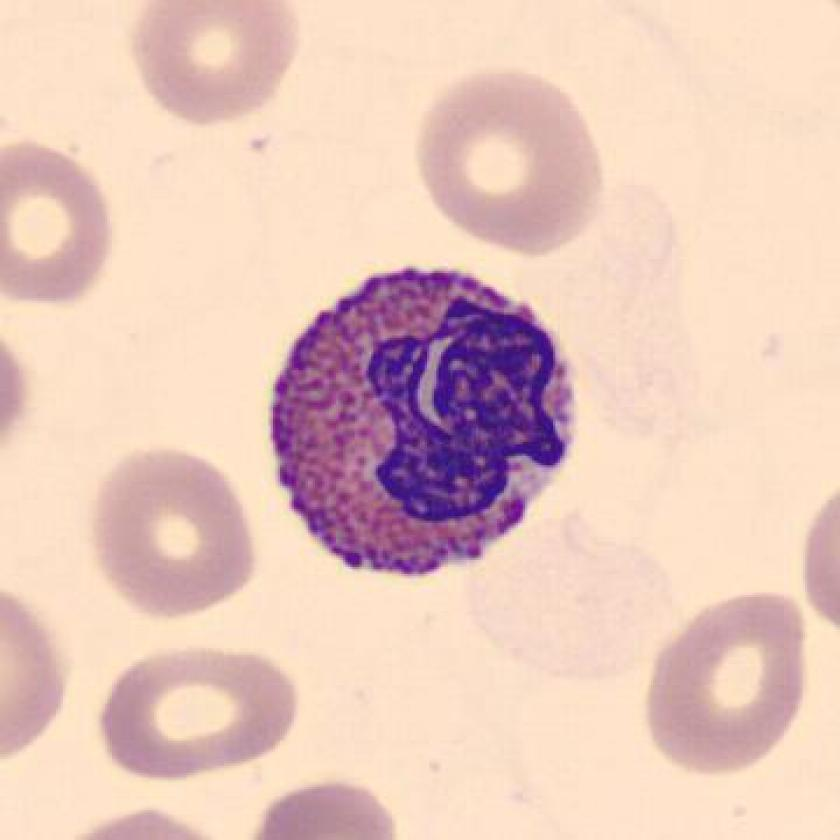eosinophil: (253, 253, 594, 596)
